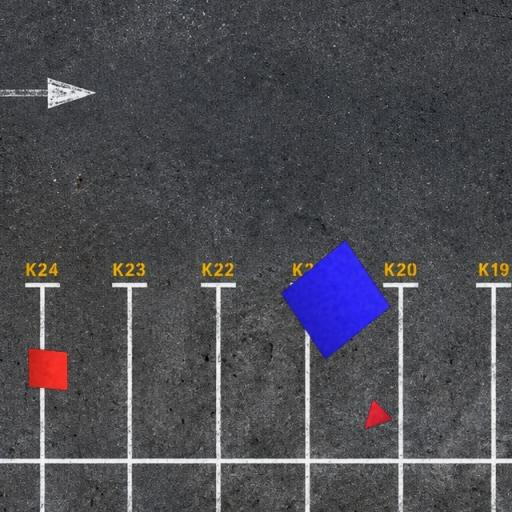BLUE_SQUARE: (280, 239, 391, 361)
RED_SQUARE: (27, 348, 69, 391)
